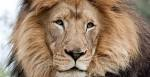lion: (15, 4, 148, 77)
